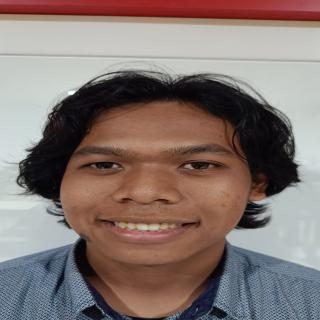Senang: (56, 90, 253, 271)
